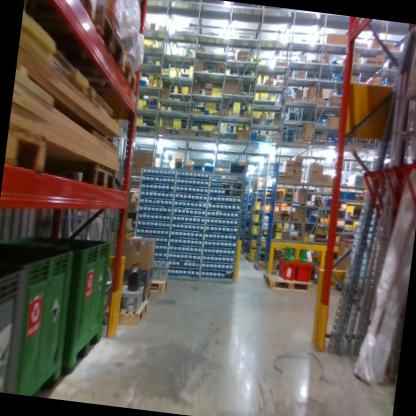pallet: (54, 36, 149, 101), (50, 141, 119, 192), (3, 123, 57, 182), (92, 0, 135, 65), (102, 291, 151, 333), (259, 263, 314, 299), (42, 0, 105, 28), (139, 272, 169, 297), (329, 275, 358, 296)
